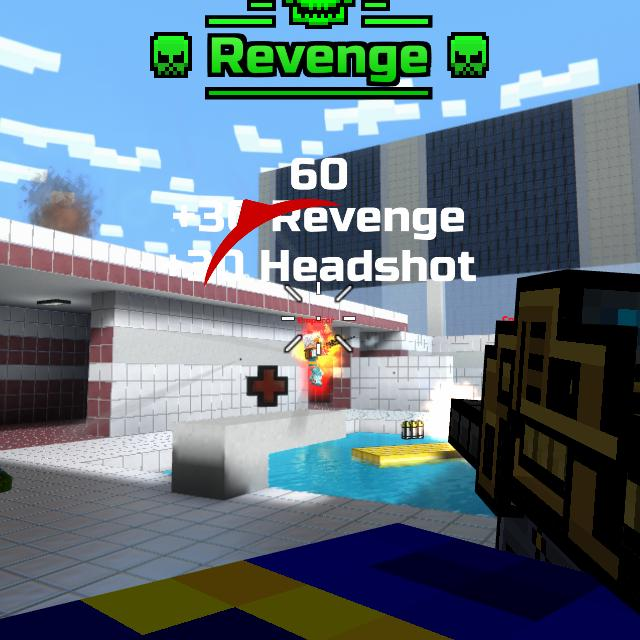Enemy: (304, 332, 327, 386)
